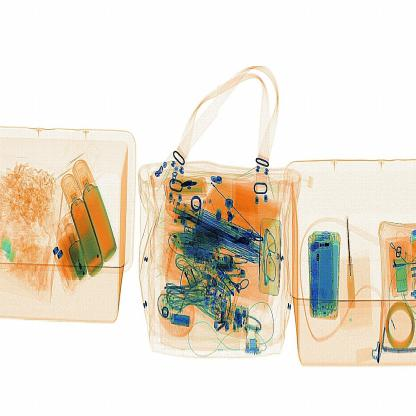wrench: (343, 211, 360, 322)
